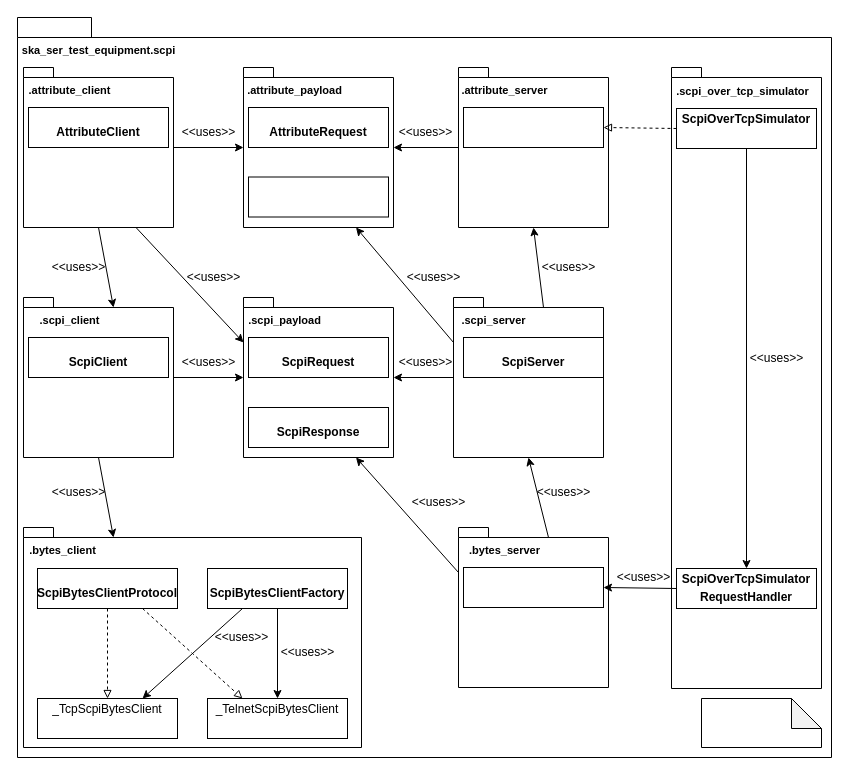
Image size: 849x775. Some labels were removed from this diagram. The box of each missing label's shape, as (x1, y1, x2, y2) in pixels:
AttributeResponse: (248, 176, 388, 217)
AttributeServerProtocol: (462, 106, 604, 148)
Notation: UML: (700, 698, 822, 748)
ScpiBytesServer: (462, 566, 604, 608)
